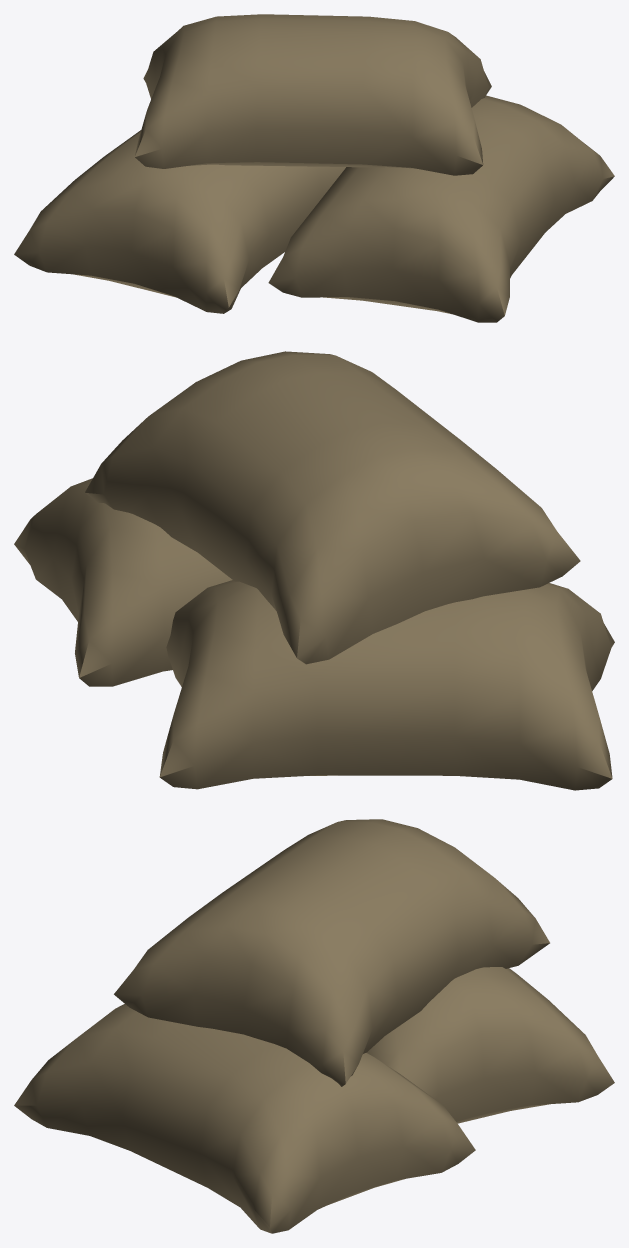
File: b_bags.glb
The picture shows the model from 3 angles, top to bottom: view 1: azimuth 30°, elevation 25°; view 2: azimuth 150°, elevation 25°; view 3: azimuth 270°, elevation 25°; orthographic projection. The views are drawn at different scales.
Parts seen in each view (by area): view 1: Bags; view 2: Bags; view 3: Bags.
Part boxes in pixels (x1=…): Bags: x1=14, y1=14, x2=614, y2=322; Bags: x1=14, y1=351, x2=614, y2=790; Bags: x1=14, y1=819, x2=614, y2=1233.
Size of the model in its own units: 0.2697 by 0.1071 by 0.2392.
